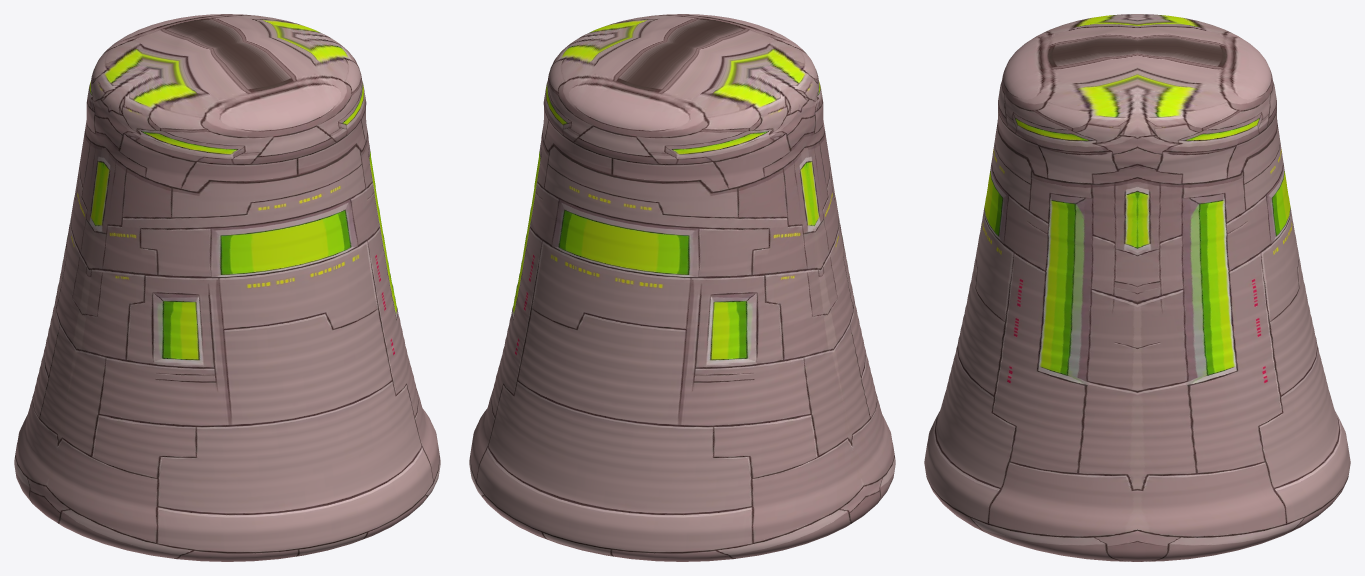
The model's file is reactor_tower.glb.
3 renders of one model, left to right at view 1: azimuth 30°, elevation 25°; view 2: azimuth 150°, elevation 25°; view 3: azimuth 270°, elevation 25°, orthographic.
Parts seen in each view (by area): view 1: reactor_tower; view 2: reactor_tower; view 3: reactor_tower.
Part boxes in pixels (<box>): reactor_tower: <box>14,14,440,561</box>; reactor_tower: <box>469,14,895,561</box>; reactor_tower: <box>924,14,1350,561</box>.
Size of the model in its own units: 0.9954 by 1.17 by 0.9954.
Materials: 1 (1 with a texture image).
